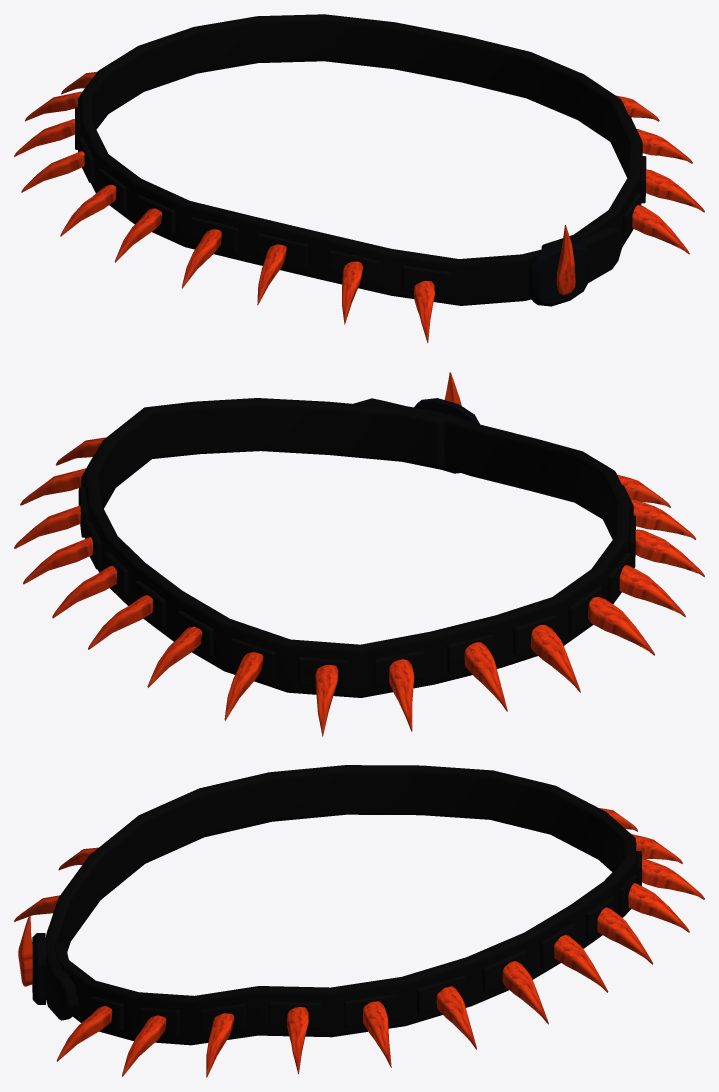
File: demonhide_belt.glb
3 renders of one model, top to bottom at view 1: azimuth 30°, elevation 25°; view 2: azimuth 150°, elevation 25°; view 3: azimuth 270°, elevation 25°, orthographic. The views are drawn at different scales.
Parts seen in each view (by area): view 1: demonhide_belt; view 2: demonhide_belt; view 3: demonhide_belt.
Boxes of the visible parts, x1=… form: demonhide_belt: x1=14, y1=14, x2=704, y2=343; demonhide_belt: x1=14, y1=372, x2=704, y2=736; demonhide_belt: x1=14, y1=765, x2=704, y2=1077.
Size of the model in its own units: 0.2666 by 0.0444 by 0.2677.
Materials: 1 (1 with a texture image).
